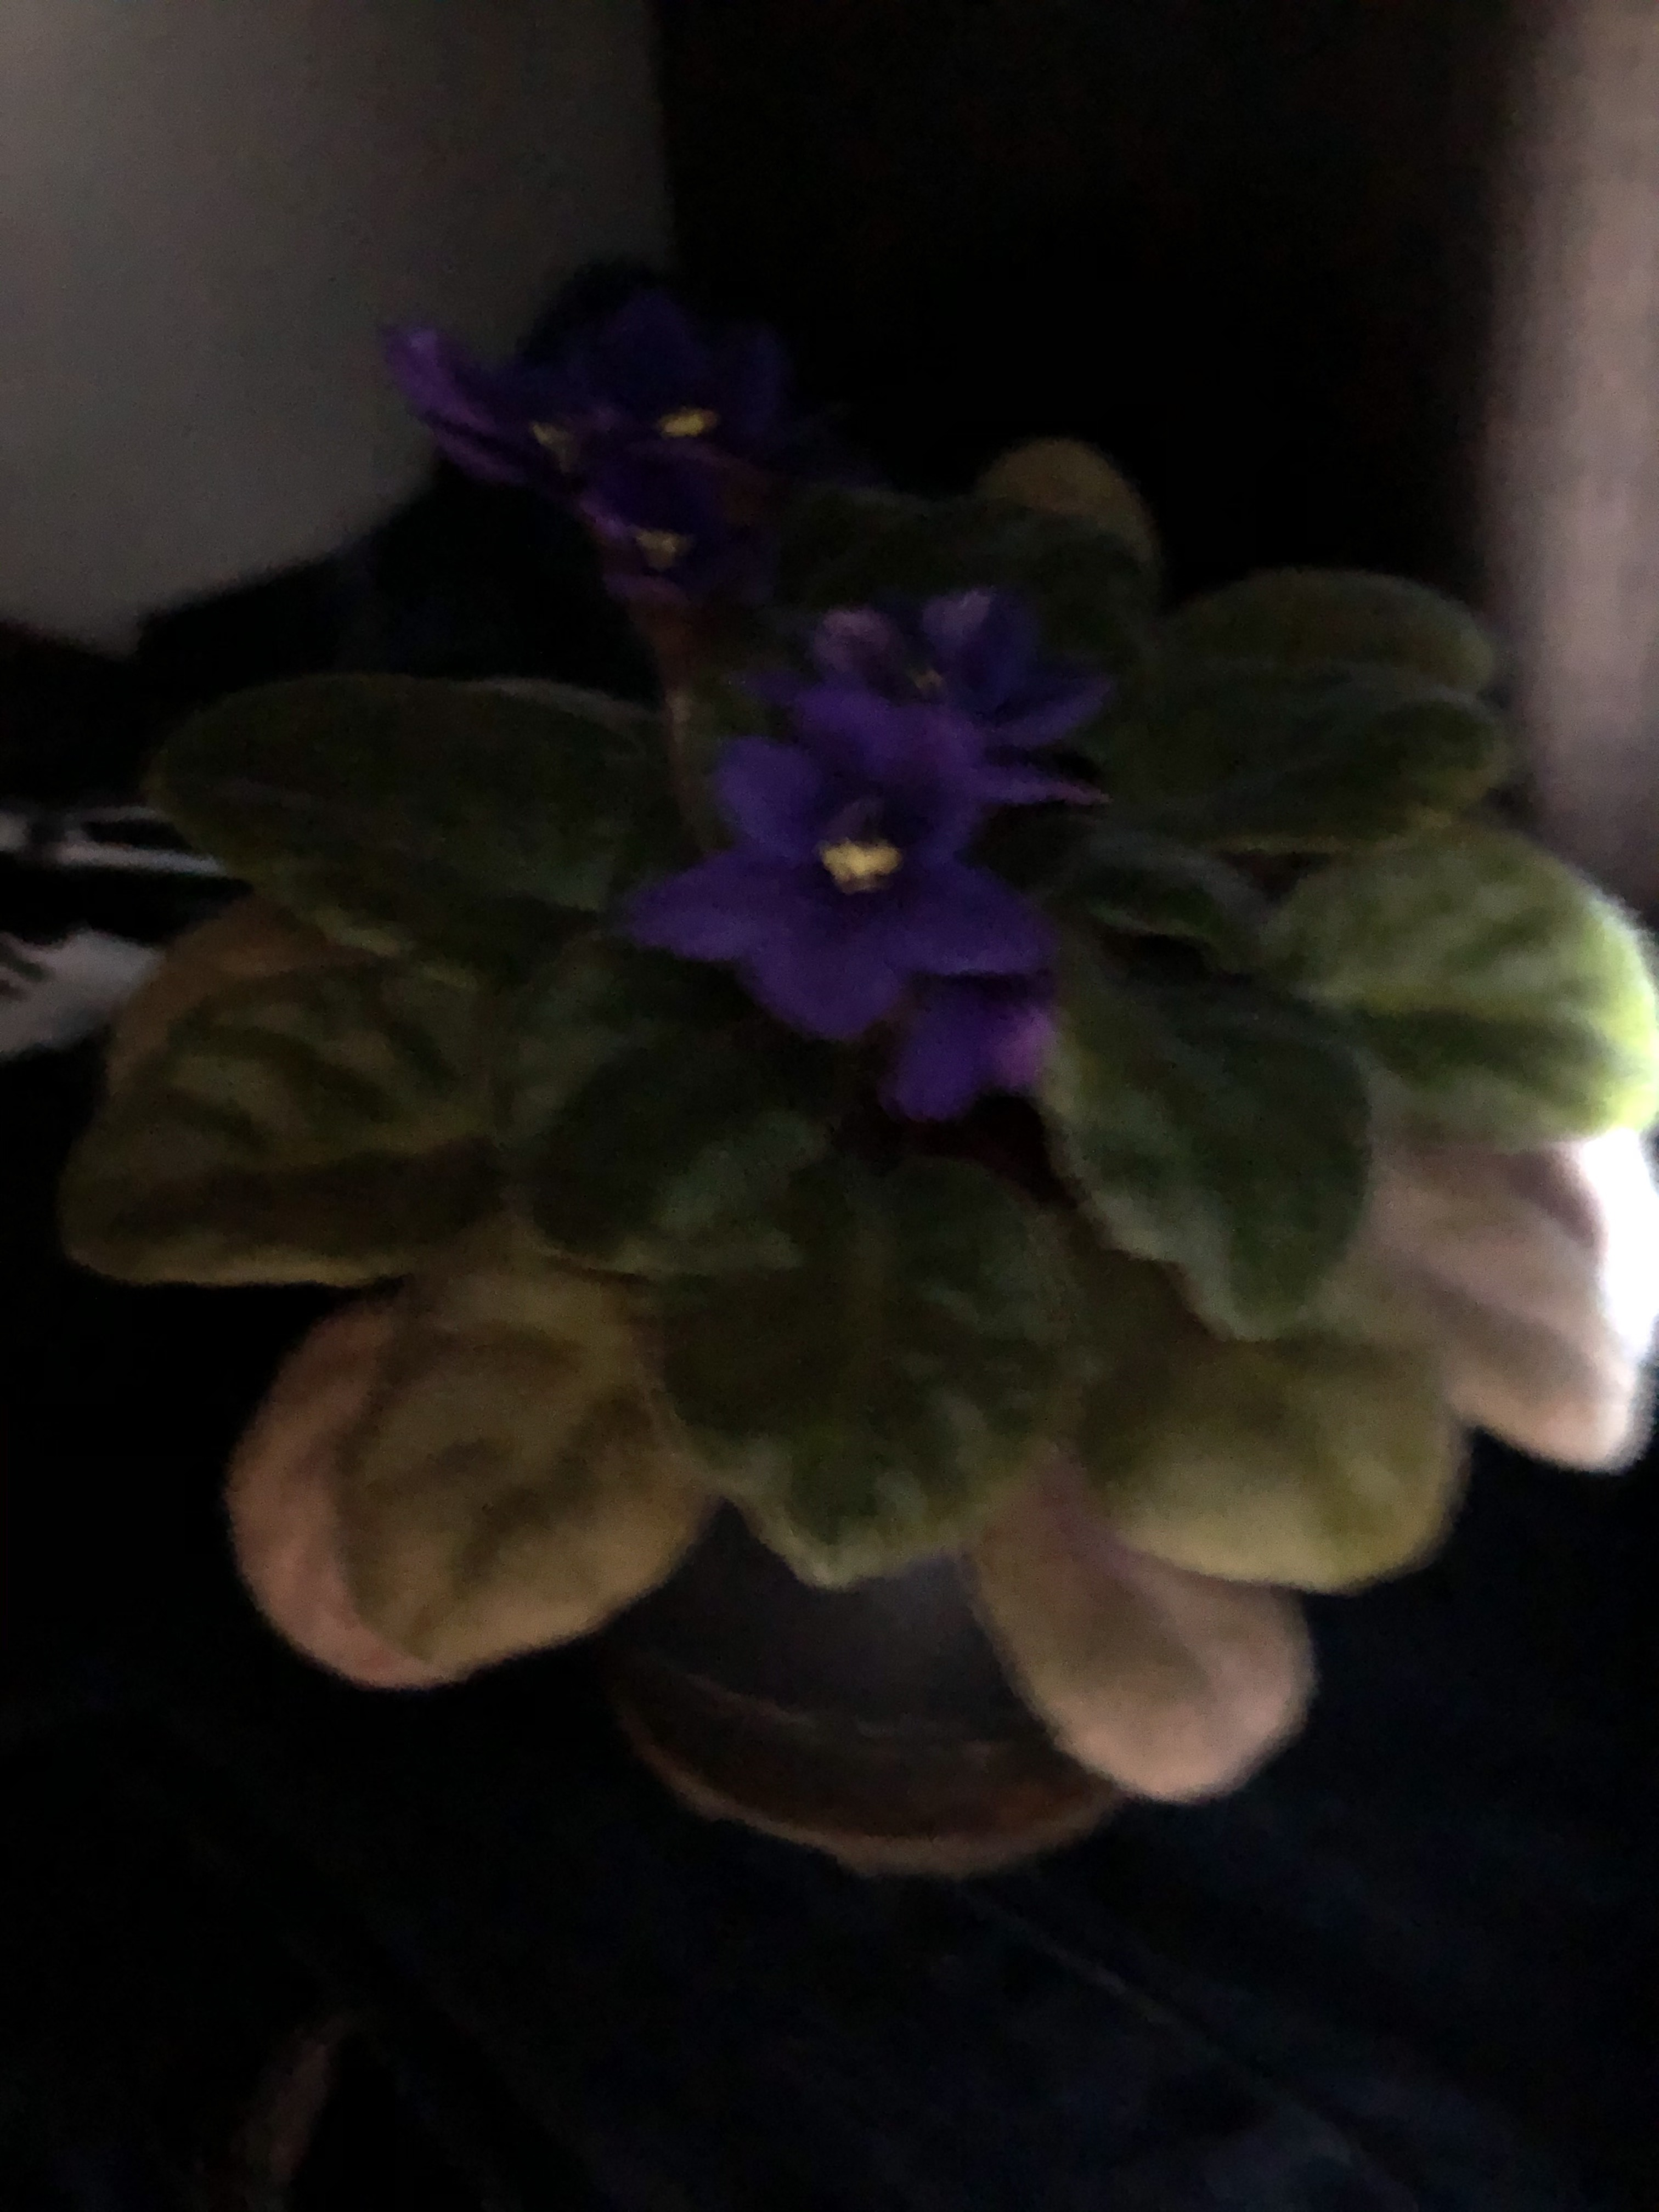ignore: (197, 303, 1640, 1686)
